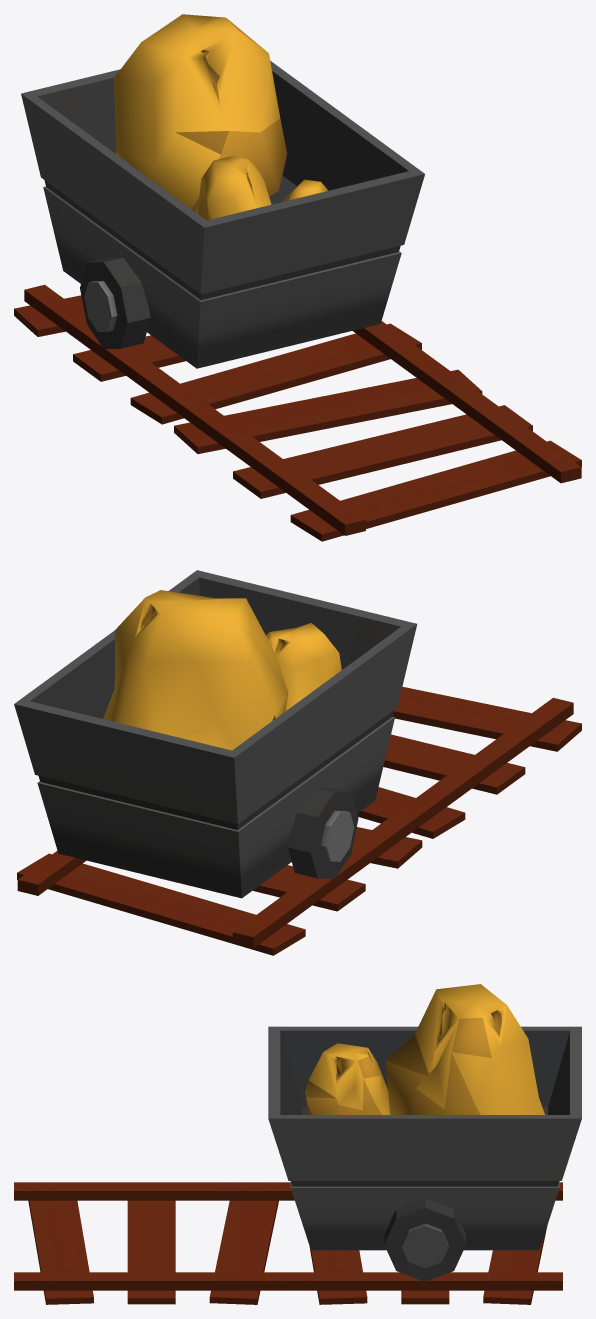
The model's file is CarrinhoMIna.glb.
3 views of the same model, one above another, from view 1: azimuth 30°, elevation 25°; view 2: azimuth 150°, elevation 25°; view 3: azimuth 270°, elevation 25° (orthographic). The views are drawn at different scales.
Visible parts, largest first — view 1: CarrinhoMIna; view 2: CarrinhoMIna; view 3: CarrinhoMIna.
Boxes of the visible parts, <box> form: CarrinhoMIna: <box>14,14,581,541</box>; CarrinhoMIna: <box>14,570,581,955</box>; CarrinhoMIna: <box>14,984,581,1304</box>.
Size of the model in its own units: 1.93 by 1.92 by 4.04.
Materials: 1 (1 with a texture image).
